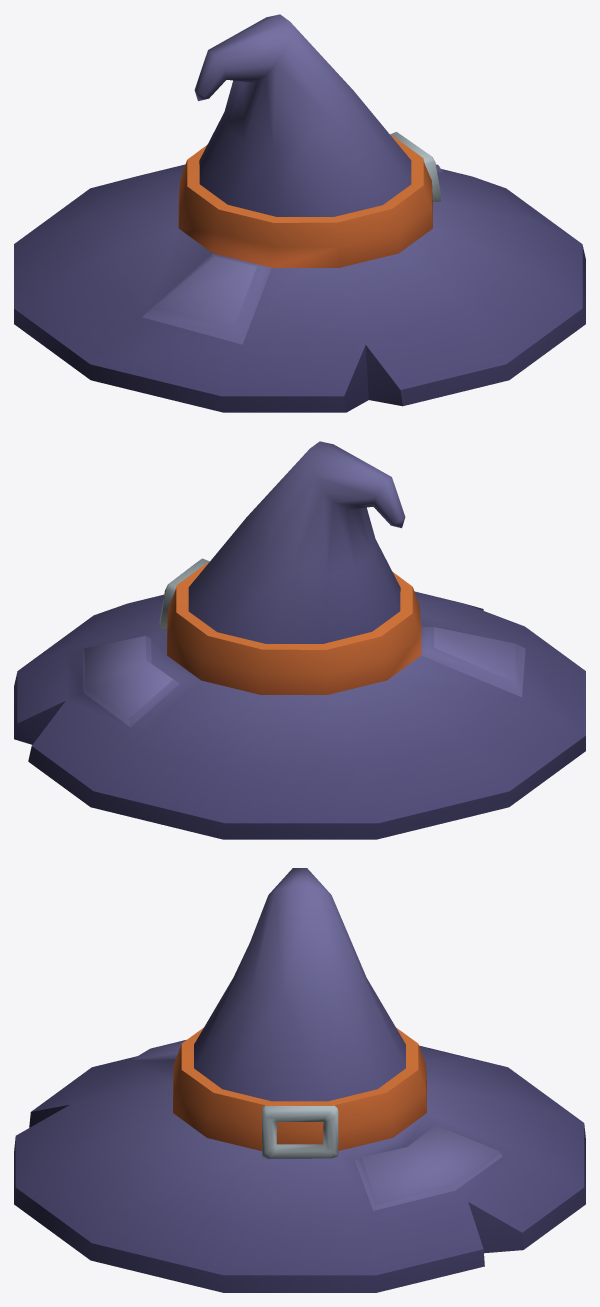
File: hat_01.glb
The picture shows the model from 3 angles, top to bottom: view 1: azimuth 30°, elevation 25°; view 2: azimuth 150°, elevation 25°; view 3: azimuth 270°, elevation 25°; orthographic projection.
Parts seen in each view (by area): view 1: Mage_Hat; view 2: Mage_Hat; view 3: Mage_Hat.
Boxes of the visible parts, x1=… form: Mage_Hat: x1=14, y1=14, x2=585, y2=412; Mage_Hat: x1=14, y1=441, x2=585, y2=839; Mage_Hat: x1=14, y1=868, x2=585, y2=1292.
Size of the model in its own units: 2.09 by 1.13 by 2.09.
1 material, 1 textured.
